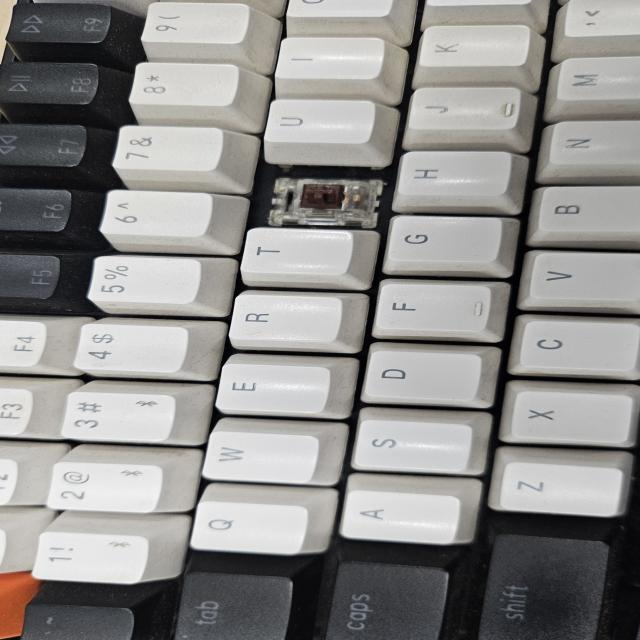C: (268, 173, 371, 213)
